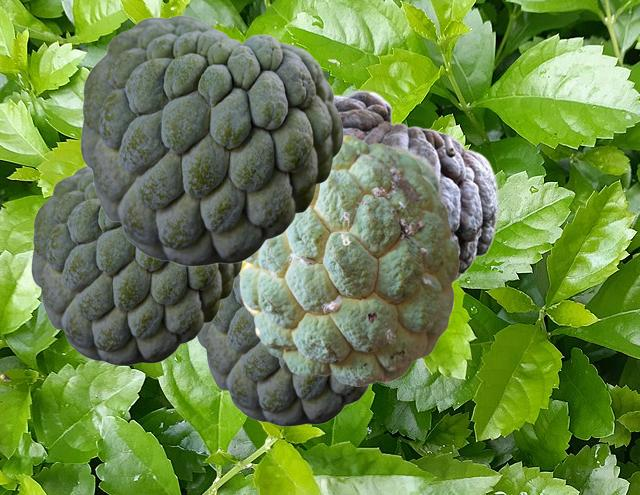atis: (80, 15, 342, 265), (237, 135, 458, 385), (31, 166, 241, 364), (334, 89, 498, 283), (197, 276, 376, 425), (366, 139, 448, 212)
